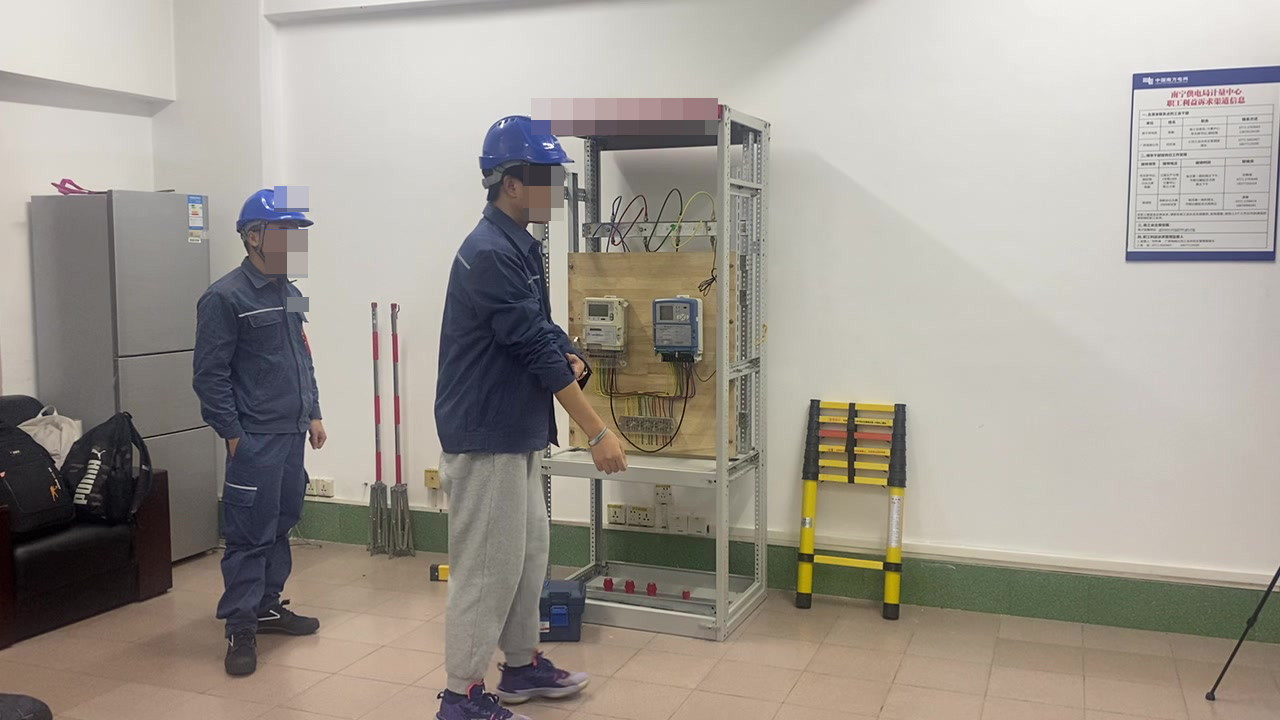downcloth: (442, 456, 547, 665)
downsuit: (216, 444, 310, 625)
halt: (477, 115, 572, 219), (235, 187, 313, 273)
hand: (587, 431, 625, 475), (307, 422, 327, 451)
inear: (238, 221, 272, 261)
noear: (494, 166, 534, 218)
person: (429, 112, 616, 681), (191, 184, 334, 670)
upsuit: (434, 212, 583, 453), (194, 264, 323, 435)
wrongtop: (544, 353, 629, 476)
